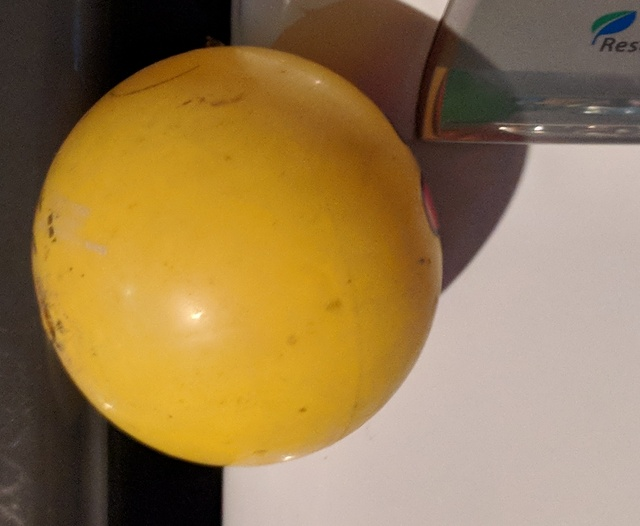ball: (29, 46, 444, 468)
